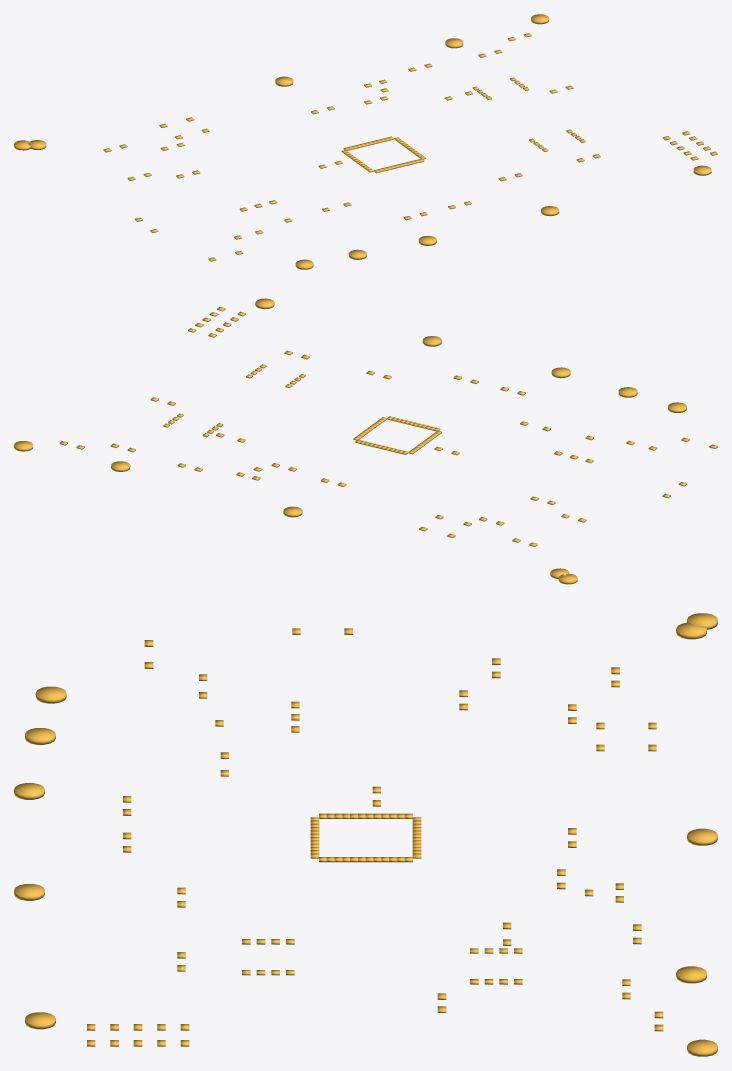
File: 11_L94_TopSMDGoldPads.fbx
3 renders of one model, top to bottom at view 1: azimuth 30°, elevation 25°; view 2: azimuth 150°, elevation 25°; view 3: azimuth 270°, elevation 25°, orthographic. The views are drawn at different scales.
Parts seen in each view (by area): view 1: L94_TopSMDGoldPads; view 2: L94_TopSMDGoldPads; view 3: L94_TopSMDGoldPads.
Boxes of the visible parts, x1,y1,x2,y2 form: L94_TopSMDGoldPads: [14, 14, 717, 269]; L94_TopSMDGoldPads: [14, 298, 717, 584]; L94_TopSMDGoldPads: [14, 613, 717, 1056].
Bounding box in the file's own units: 134 × 0.6 × 90.8.
